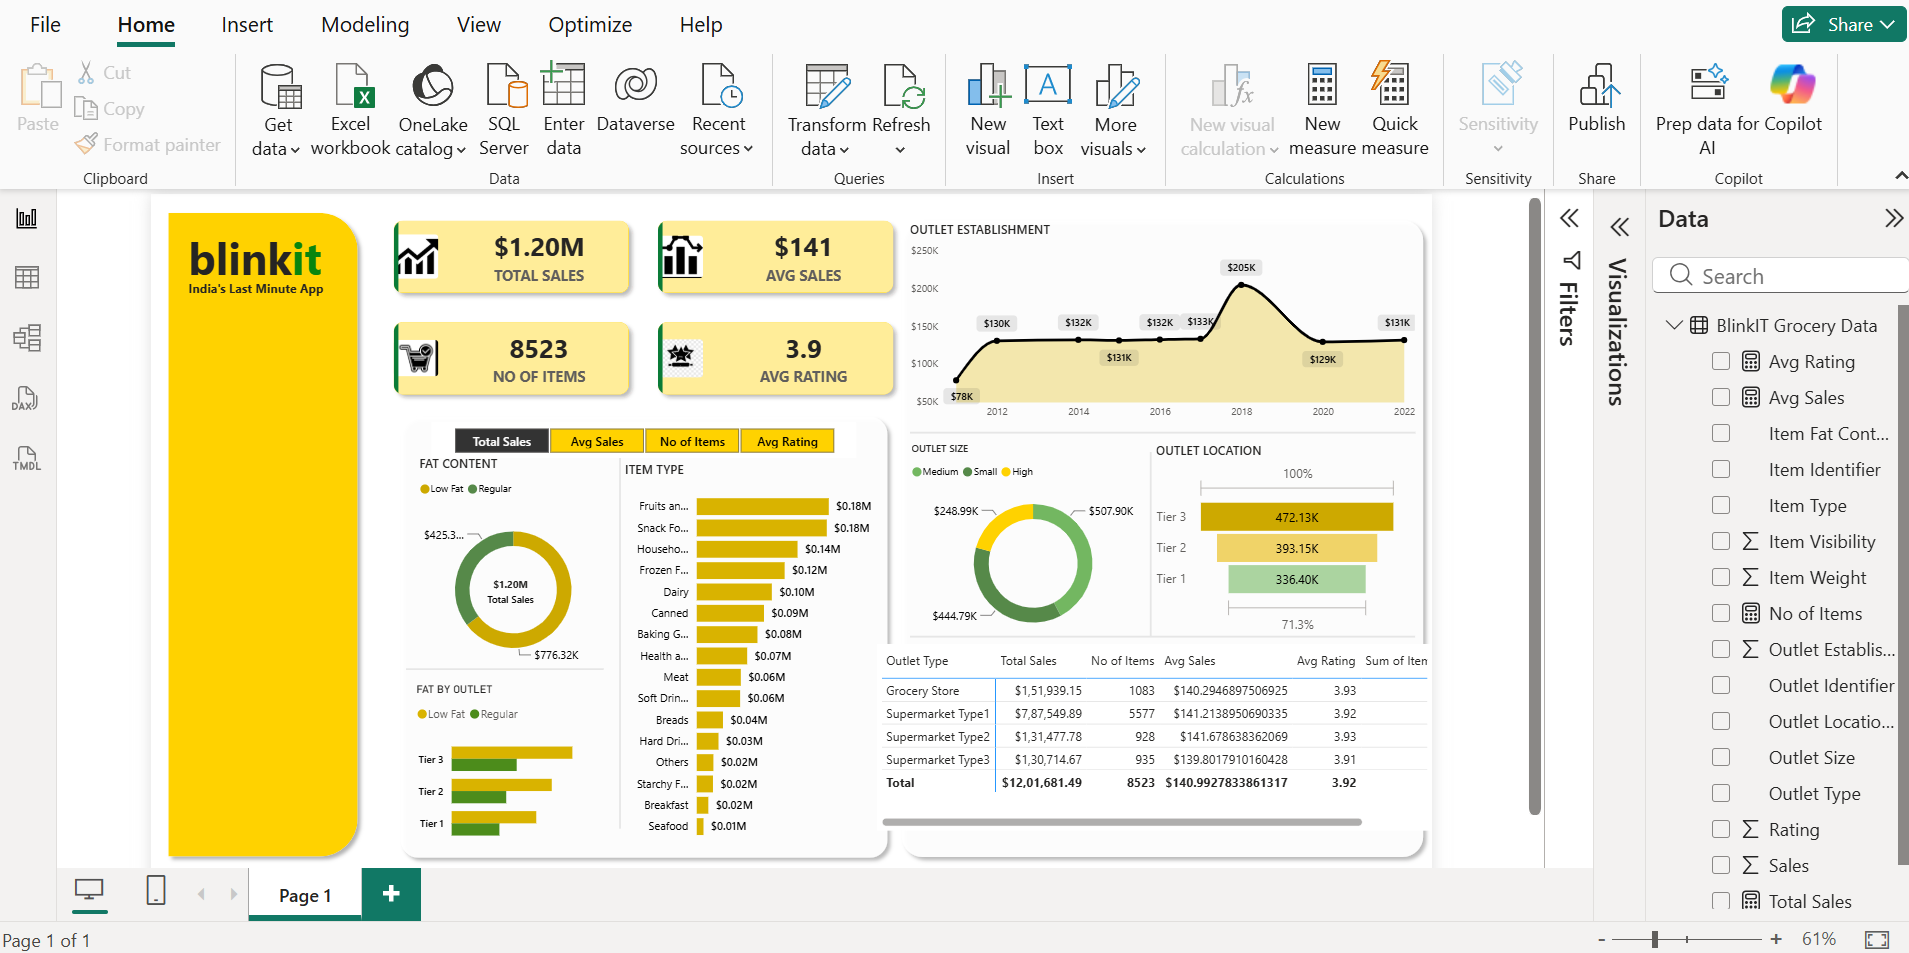

The dashboard page shown, as its layout file describes it:
{"tool":"powerbi","page":{"name":"Page 1","canvas":[1400,800],"ordinal":0},"visuals":[{"type":"shape","box":[10,11.7,225,721.7],"z":0},{"type":"textbox","box":[35.7,30.4,180.4,98.2],"z":1000},{"type":"textbox","box":[35.7,89.3,158.9,39.3],"z":2000},{"type":"cardVisual","fields":{"Data":["BlinkIT Grocery Data.Total Sales","BlinkIT Grocery Data.Avg Sales","BlinkIT Grocery Data.No of Items","BlinkIT Grocery Data.Avg Rating"]},"box":[235.7,0,605.4,250],"z":3000},{"type":"shape","box":[264,234,550,500],"z":4000},{"type":"slicer","fields":{"Values":["Metrics.Metrics"]},"box":[307.1,250,464.3,39.3],"z":5000},{"type":"donutChart","title":"FAT CONTENT","fields":{"Y":["BlinkIT Grocery Data.Total Sales"],"Category":["BlinkIT Grocery Data.Item Fat Content"]},"box":[289,286,214,249],"z":6000},{"type":"cardVisual","fields":{"Data":["BlinkIT Grocery Data.Total Sales"]},"box":[328,391,130,84],"z":7000},{"type":"clusteredBarChart","title":"FAT BY OUTLET","fields":{"Y":["BlinkIT Grocery Data.Total Sales"],"Category":["BlinkIT Grocery Data.Outlet Location Type"],"Series":["BlinkIT Grocery Data.Item Fat Content"]},"box":[286,535,220,187],"z":8000},{"type":"shape","box":[279,503,216,32],"z":9000},{"type":"shape","box":[495,289,35,405],"z":10000},{"type":"barChart","title":"ITEM TYPE","fields":{"Y":["BlinkIT Grocery Data.Total Sales"],"Category":["BlinkIT Grocery Data.Item Type"]},"box":[513,291,279,423],"z":11000},{"type":"shape","box":[812,20,588,714],"z":12000},{"type":"lineChart","title":"OUTLET ESTABLISHMENT","fields":{"Y":["BlinkIT Grocery Data.Total Sales"],"Category":["BlinkIT Grocery Data.Outlet Establishment Year"]},"box":[825,30,561.7,225],"z":13000},{"type":"shape","box":[830,250,552.5,20],"z":14000},{"type":"donutChart","title":"OUTLET SIZE","fields":{"Y":["BlinkIT Grocery Data.Total Sales"],"Category":["BlinkIT Grocery Data.Outlet Size"]},"box":[826,270,275,225],"z":15000},{"type":"shape","box":[1084,282,18,202],"z":16000},{"type":"funnel","title":"OUTLET LOCATION","fields":{"Y":["Sum(BlinkIT Grocery Data.Sales)"],"Category":["BlinkIT Grocery Data.Outlet Location Type"]},"box":[1094,270,274,214],"z":17000},{"type":"shape","box":[830,474,552,20],"z":18000},{"type":"pivotTable","fields":{"Rows":["BlinkIT Grocery Data.Outlet Type"],"Values":["BlinkIT Grocery Data.Total Sales","BlinkIT Grocery Data.No of Items","BlinkIT Grocery Data.Avg Sales","BlinkIT Grocery Data.Avg Rating","Sum(BlinkIT Grocery Data.Item Visibility)"]},"box":[794,492,606,204],"z":19000}]}

Visuals, with their boxes on the page's 1400x800 design canvas (x1, y1, x2, y2). These are canvas units, not pixel positions in the 1909x953 screenshot, which may show the page scaled, cropped or inside an application window:
shape: 10/12/235/733
textbox: 36/30/216/129
textbox: 36/89/195/129
cardVisual - BlinkIT Grocery Data.Total Sales x BlinkIT Grocery Data.Avg Sales: 236/0/841/250
shape: 264/234/814/734
slicer - Metrics.Metrics: 307/250/771/289
"FAT CONTENT" donutChart: 289/286/503/535
cardVisual - BlinkIT Grocery Data.Total Sales: 328/391/458/475
"FAT BY OUTLET" clusteredBarChart: 286/535/506/722
shape: 279/503/495/535
shape: 495/289/530/694
"ITEM TYPE" barChart: 513/291/792/714
shape: 812/20/1400/734
"OUTLET ESTABLISHMENT" lineChart: 825/30/1387/255
shape: 830/250/1382/270
"OUTLET SIZE" donutChart: 826/270/1101/495
shape: 1084/282/1102/484
"OUTLET LOCATION" funnel: 1094/270/1368/484
shape: 830/474/1382/494
pivotTable - BlinkIT Grocery Data.Outlet Type x BlinkIT Grocery Data.Total Sales: 794/492/1400/696
